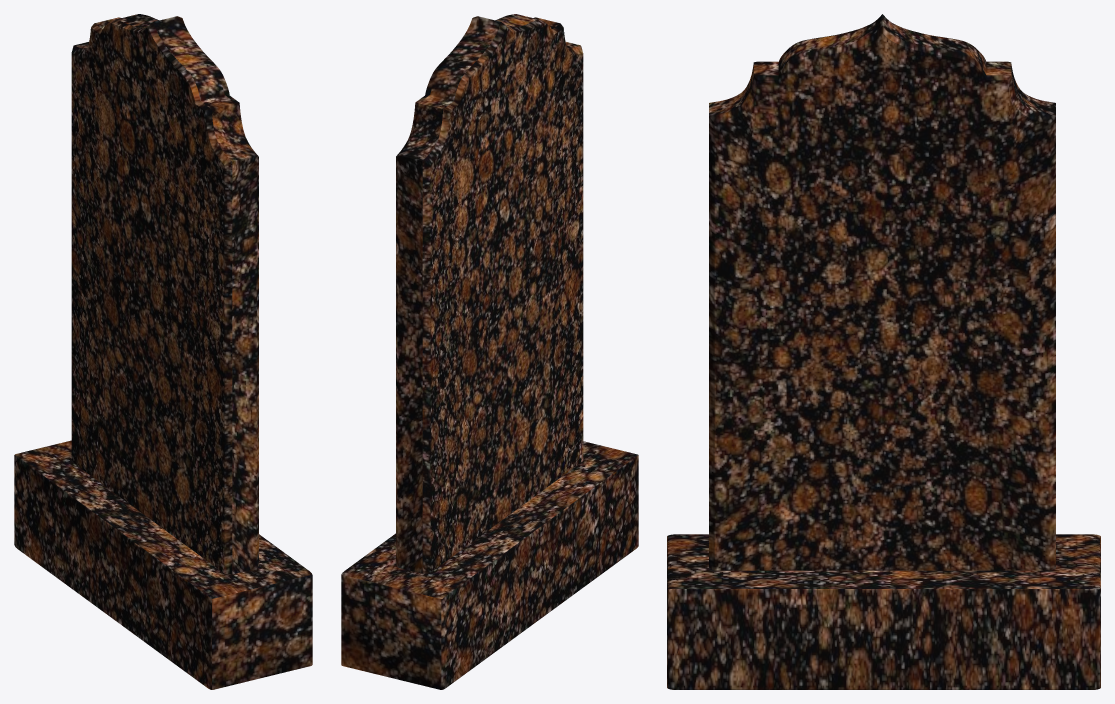
File: Памятник вола Дымовски [granite_u_u] (70).glb
3 views of the same model, side by side, from view 1: azimuth 30°, elevation 25°; view 2: azimuth 150°, elevation 25°; view 3: azimuth 270°, elevation 25° (orthographic). The views are drawn at different scales.
Parts seen in each view (by area): view 1: Cube.052; view 2: Cube.052; view 3: Cube.052.
Part boxes in pixels (x1,y1,x2,y2): Cube.052: (14, 14, 312, 689); Cube.052: (341, 14, 638, 689); Cube.052: (667, 14, 1100, 689).
Size of the model in its own units: 0.15 by 0.8181 by 0.5.
1 material, 1 textured.
